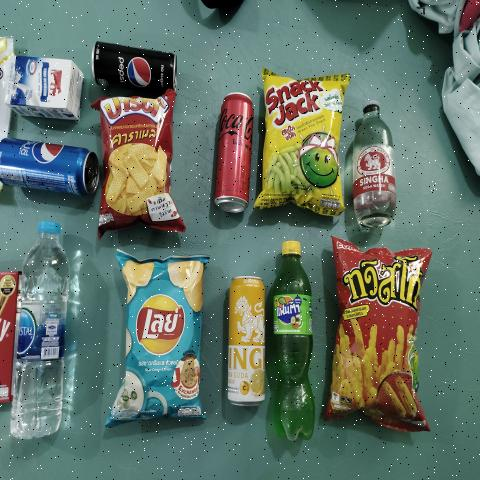coke_red: (218, 97, 248, 220)
crystal: (17, 216, 76, 441)
fanta_green: (276, 241, 318, 441)
lay_blue: (131, 265, 194, 413)
party_red: (104, 101, 173, 217)
pepsi_black: (95, 39, 177, 98)
pepsi_blue: (1, 136, 100, 203)
singha_soda: (350, 98, 394, 230)
singha_yellow: (225, 277, 265, 404)
snack_jack: (270, 82, 337, 208)
thai_denmark: (8, 56, 80, 117)
twisco: (346, 245, 417, 424)
